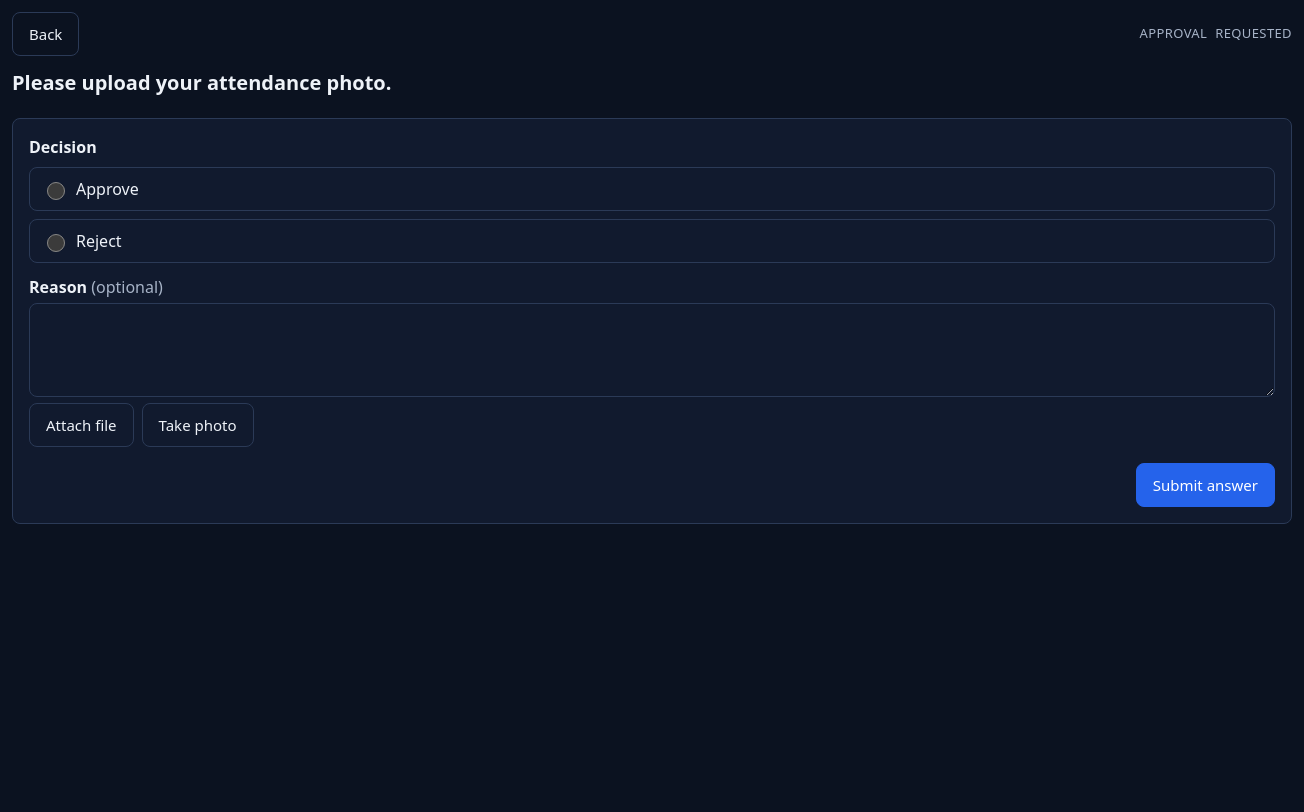
it: TaskView › requires a decision for approval tasks
Step 1. Click the button "Submit answer" → (1205, 485), box [1136,463,1275,507]
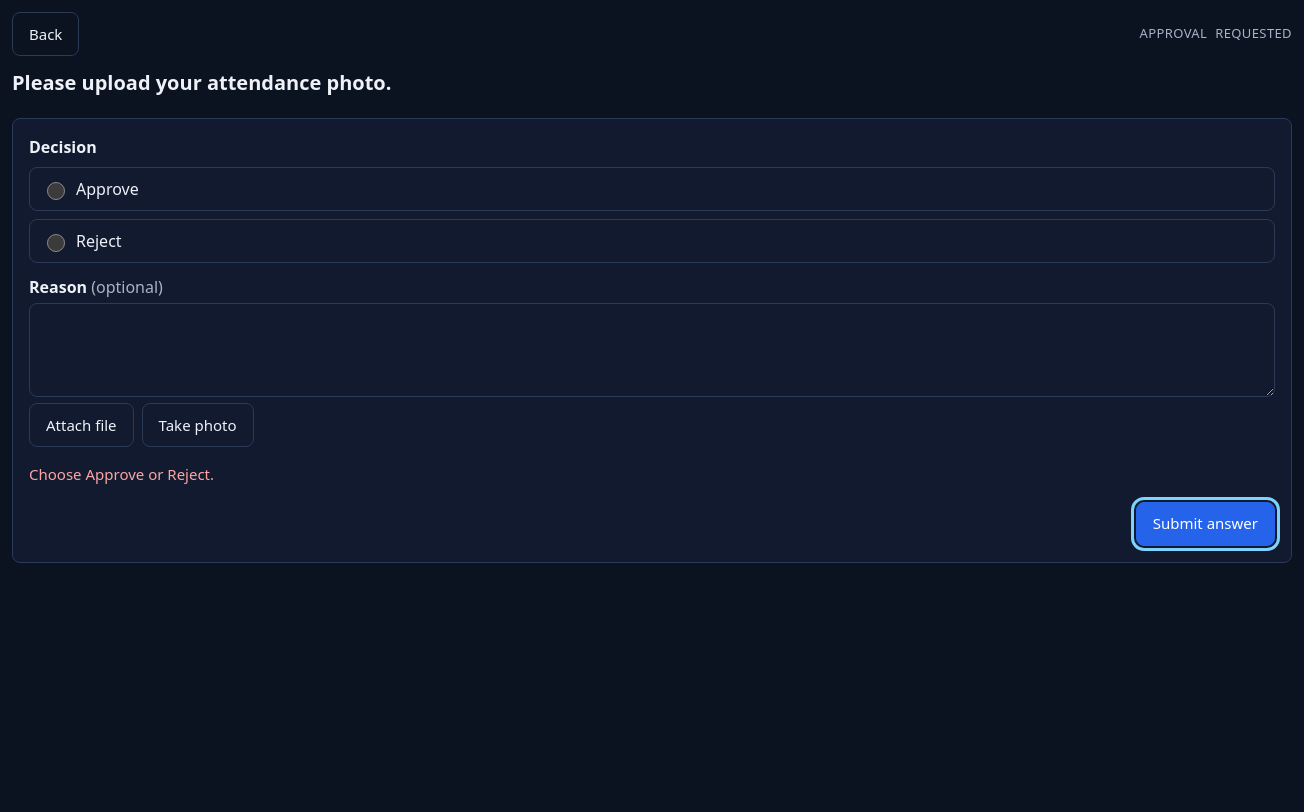
Expected: the text "Choose Approve or Reject." is shown, [29,464,214,484]
